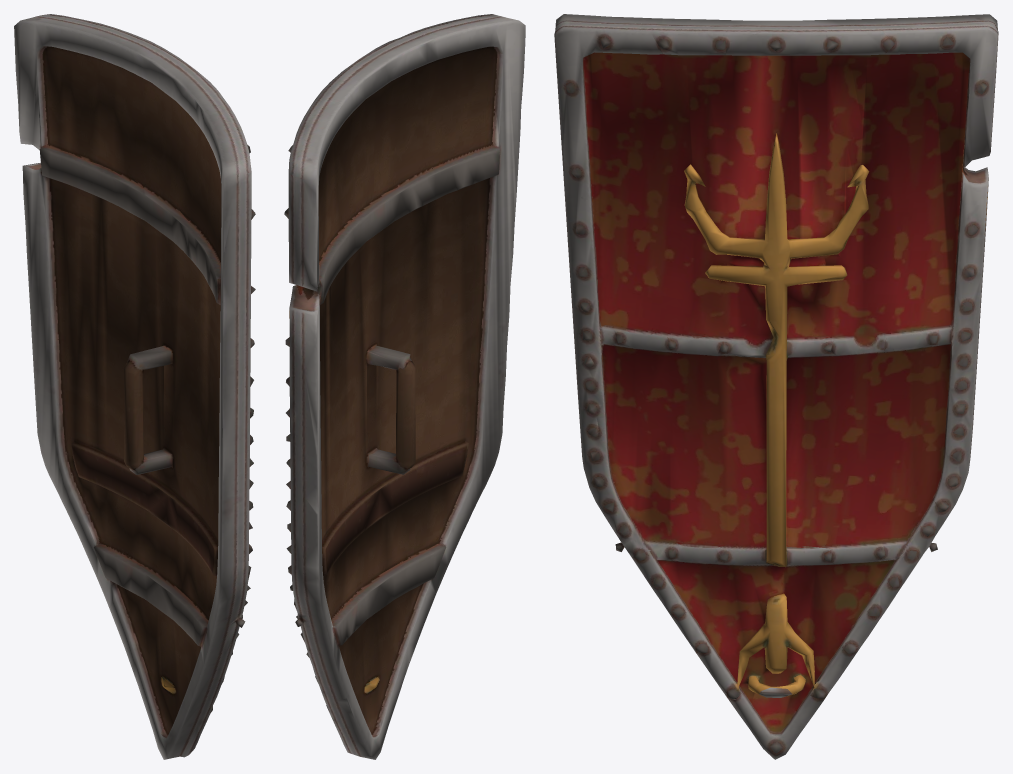
File: boss_captain_shield_patina.glb
3 views of the same model, side by side, from view 1: azimuth 30°, elevation 25°; view 2: azimuth 150°, elevation 25°; view 3: azimuth 270°, elevation 25° (orthographic). The views are drawn at different scales.
Parts seen in each view (by area): view 1: boss_captain_shield_patina; view 2: boss_captain_shield_patina; view 3: boss_captain_shield_patina.
Part boxes in pixels (<box>): boss_captain_shield_patina: <box>14,14,255,759</box>; boss_captain_shield_patina: <box>284,14,525,759</box>; boss_captain_shield_patina: <box>554,14,998,759</box>.
Size of the model in its own units: 0.2104 by 1.54 by 0.8494.
Materials: 1 (1 with a texture image).
